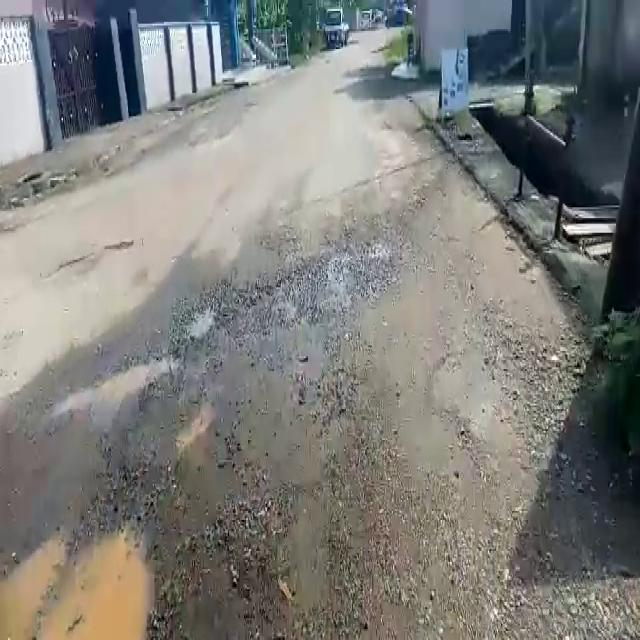Pothole: (0, 521, 159, 639), (182, 296, 223, 346)
